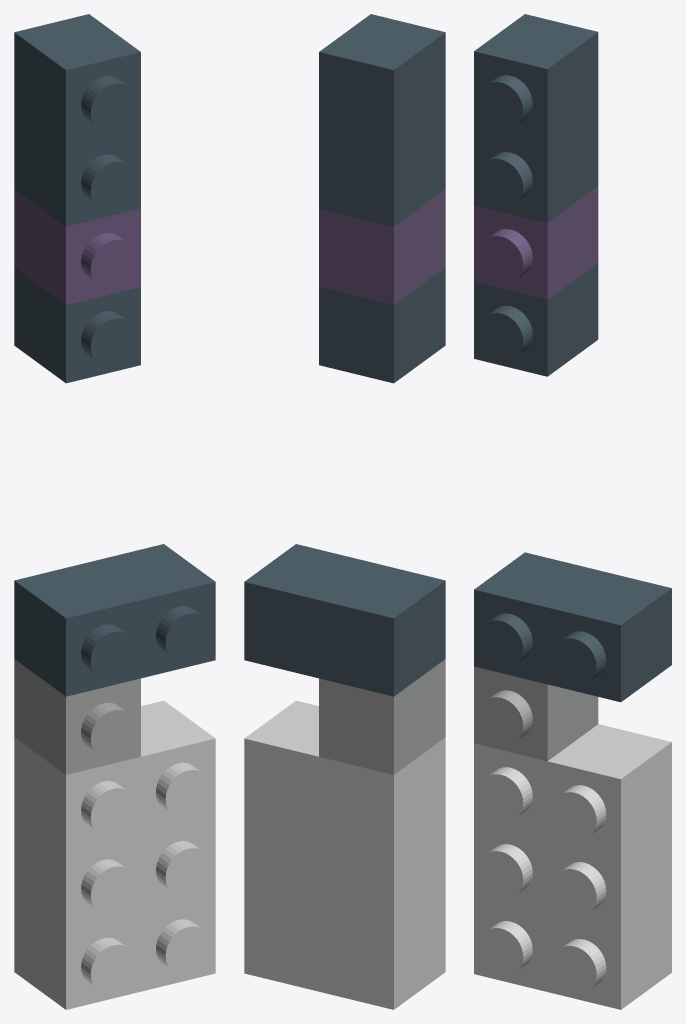
The model's file is current.glb.
The picture shows the model from 3 angles, left to right: view 1: azimuth 30°, elevation 25°; view 2: azimuth 150°, elevation 25°; view 3: azimuth 330°, elevation 25°; orthographic projection.
Parts seen in each view (by area): view 1: world; view 2: world; view 3: world.
Boxes of the visible parts, x1,y1,x2,y2 form: world: [14, 14, 215, 1009]; world: [244, 14, 445, 1009]; world: [474, 14, 671, 1009].
Size of the model in its own units: 16 by 96 by 11.4.
